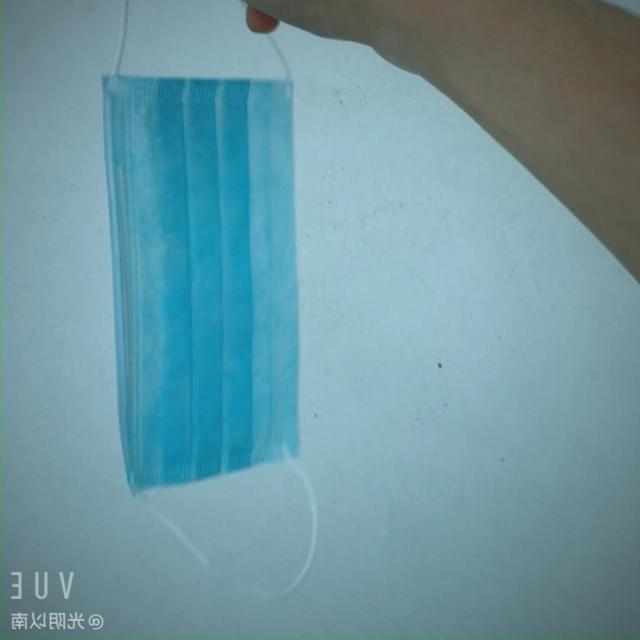face mask: (104, 50, 316, 489)
